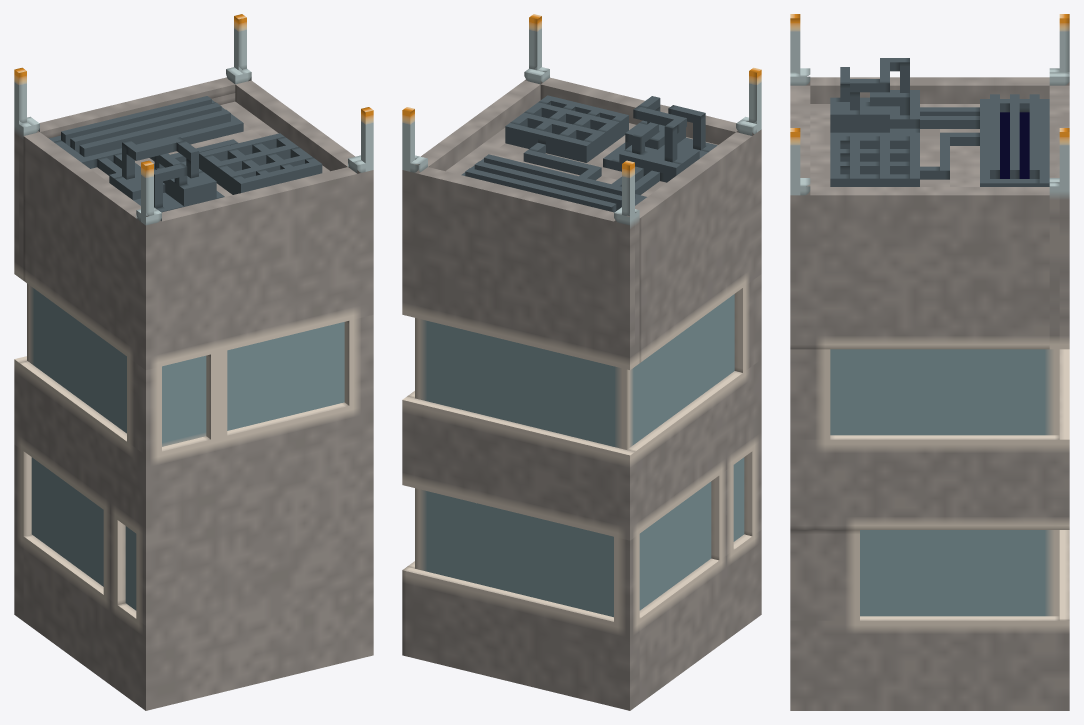
File: wieza_obserwacyjna.dae
The picture shows the model from 3 angles, left to right: view 1: azimuth 30°, elevation 25°; view 2: azimuth 150°, elevation 25°; view 3: azimuth 270°, elevation 25°; orthographic projection. The views are drawn at different scales.
Visible parts, largest first — view 1: Content; view 2: Content; view 3: Content.
Boxes of the visible parts, x1,y1,x2,y2 form: Content: (14,14,373,710); Content: (402,14,761,710); Content: (790,14,1069,710).
Size of the model in its own units: 28 by 64 by 28.
Materials: 1 (1 with a texture image).
